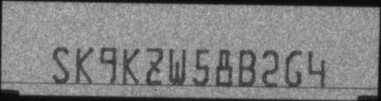2: (262, 47, 280, 88)
4: (307, 51, 327, 88)
5: (192, 47, 210, 86)
8: (215, 48, 234, 86)
9: (99, 47, 117, 85)
B: (238, 49, 257, 87)
G: (285, 48, 303, 88)
K: (75, 46, 94, 84), (122, 47, 139, 85)
S: (50, 44, 70, 83)
W: (168, 46, 187, 86)
Z: (145, 47, 162, 85)
